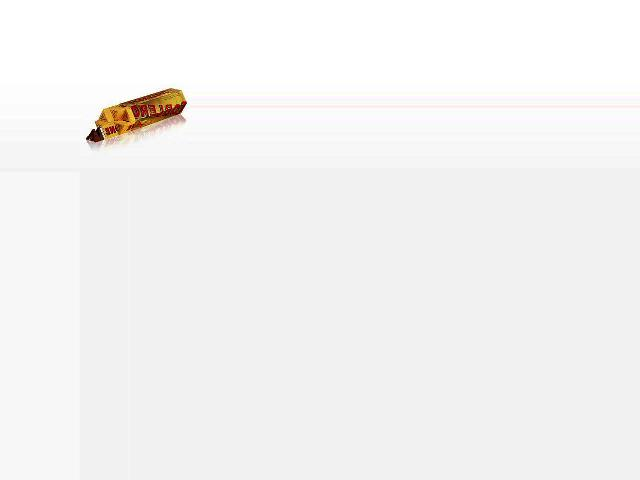chocolate: (85, 86, 185, 146)
